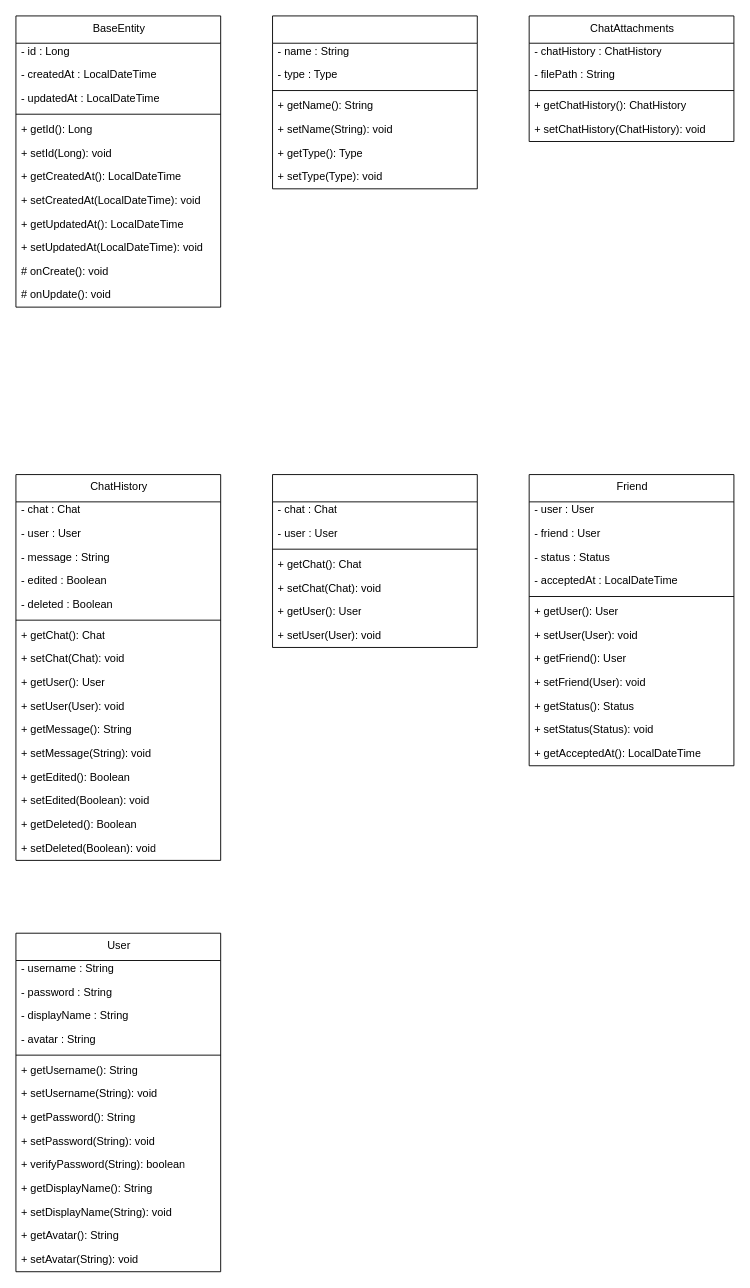
Image size: 750x1288. Some labels were removed from this diagram. The shapes that lost their labels are listed below. From the top down, each one's box as (x1, y1, x2, y2) in pixels, then its label:
(272, 15, 477, 189): Chat
(272, 474, 477, 647): ChatMember
